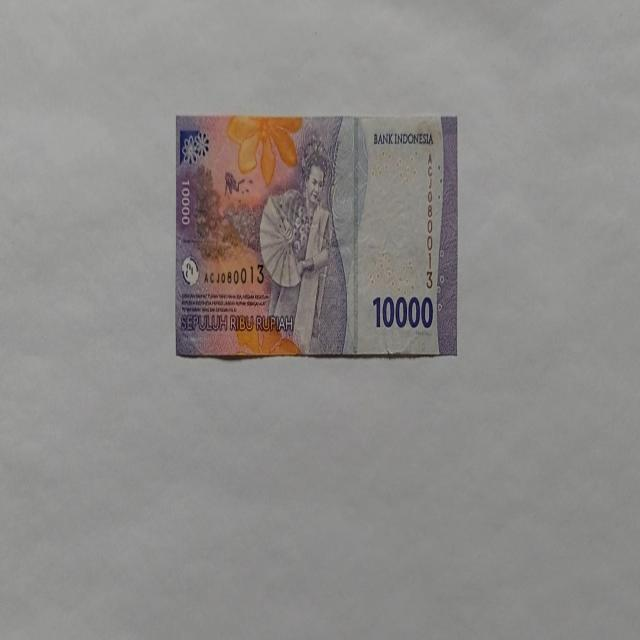sepuluh ribu rupiah: (174, 113, 458, 360)
